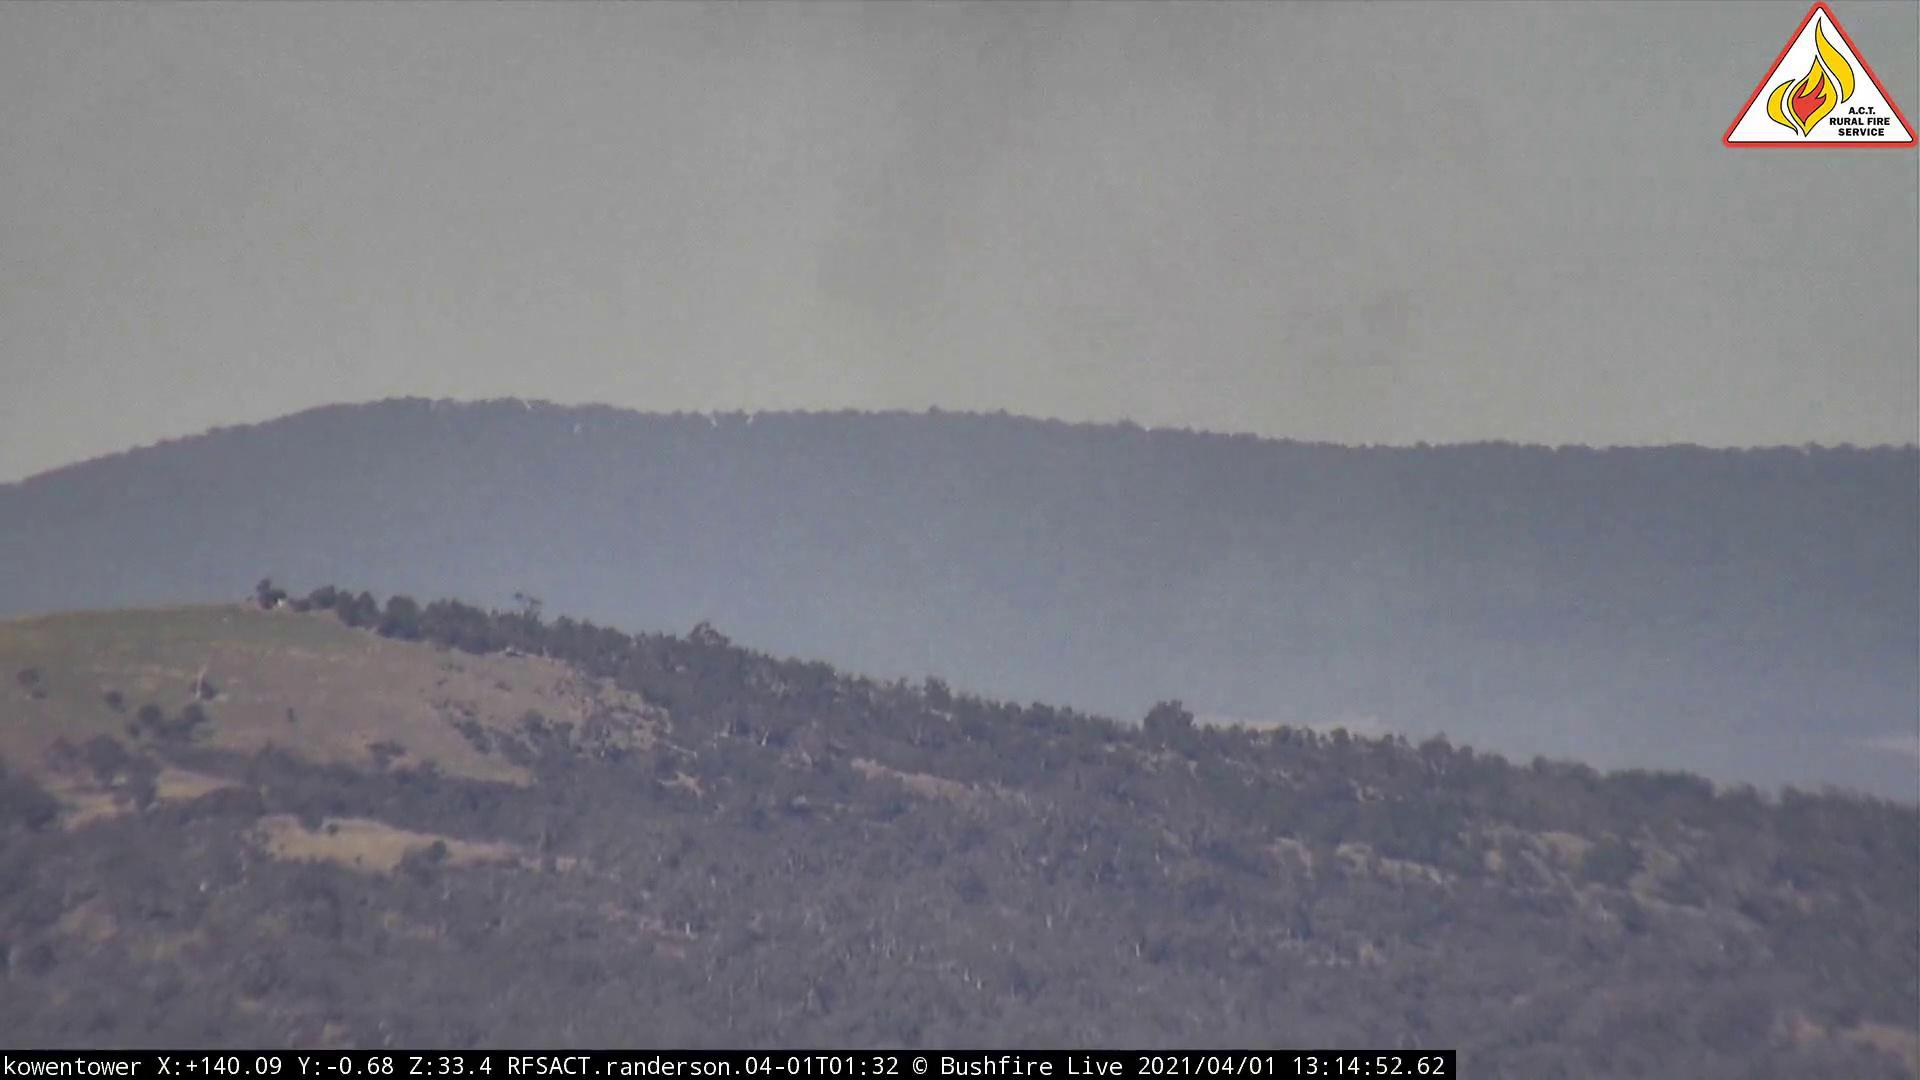Smoke: (651, 3, 1716, 847)
